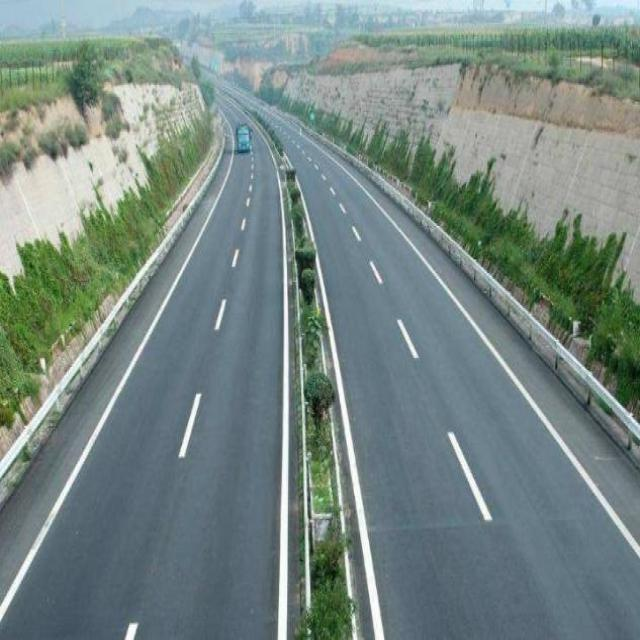point: (193, 54, 323, 184)
